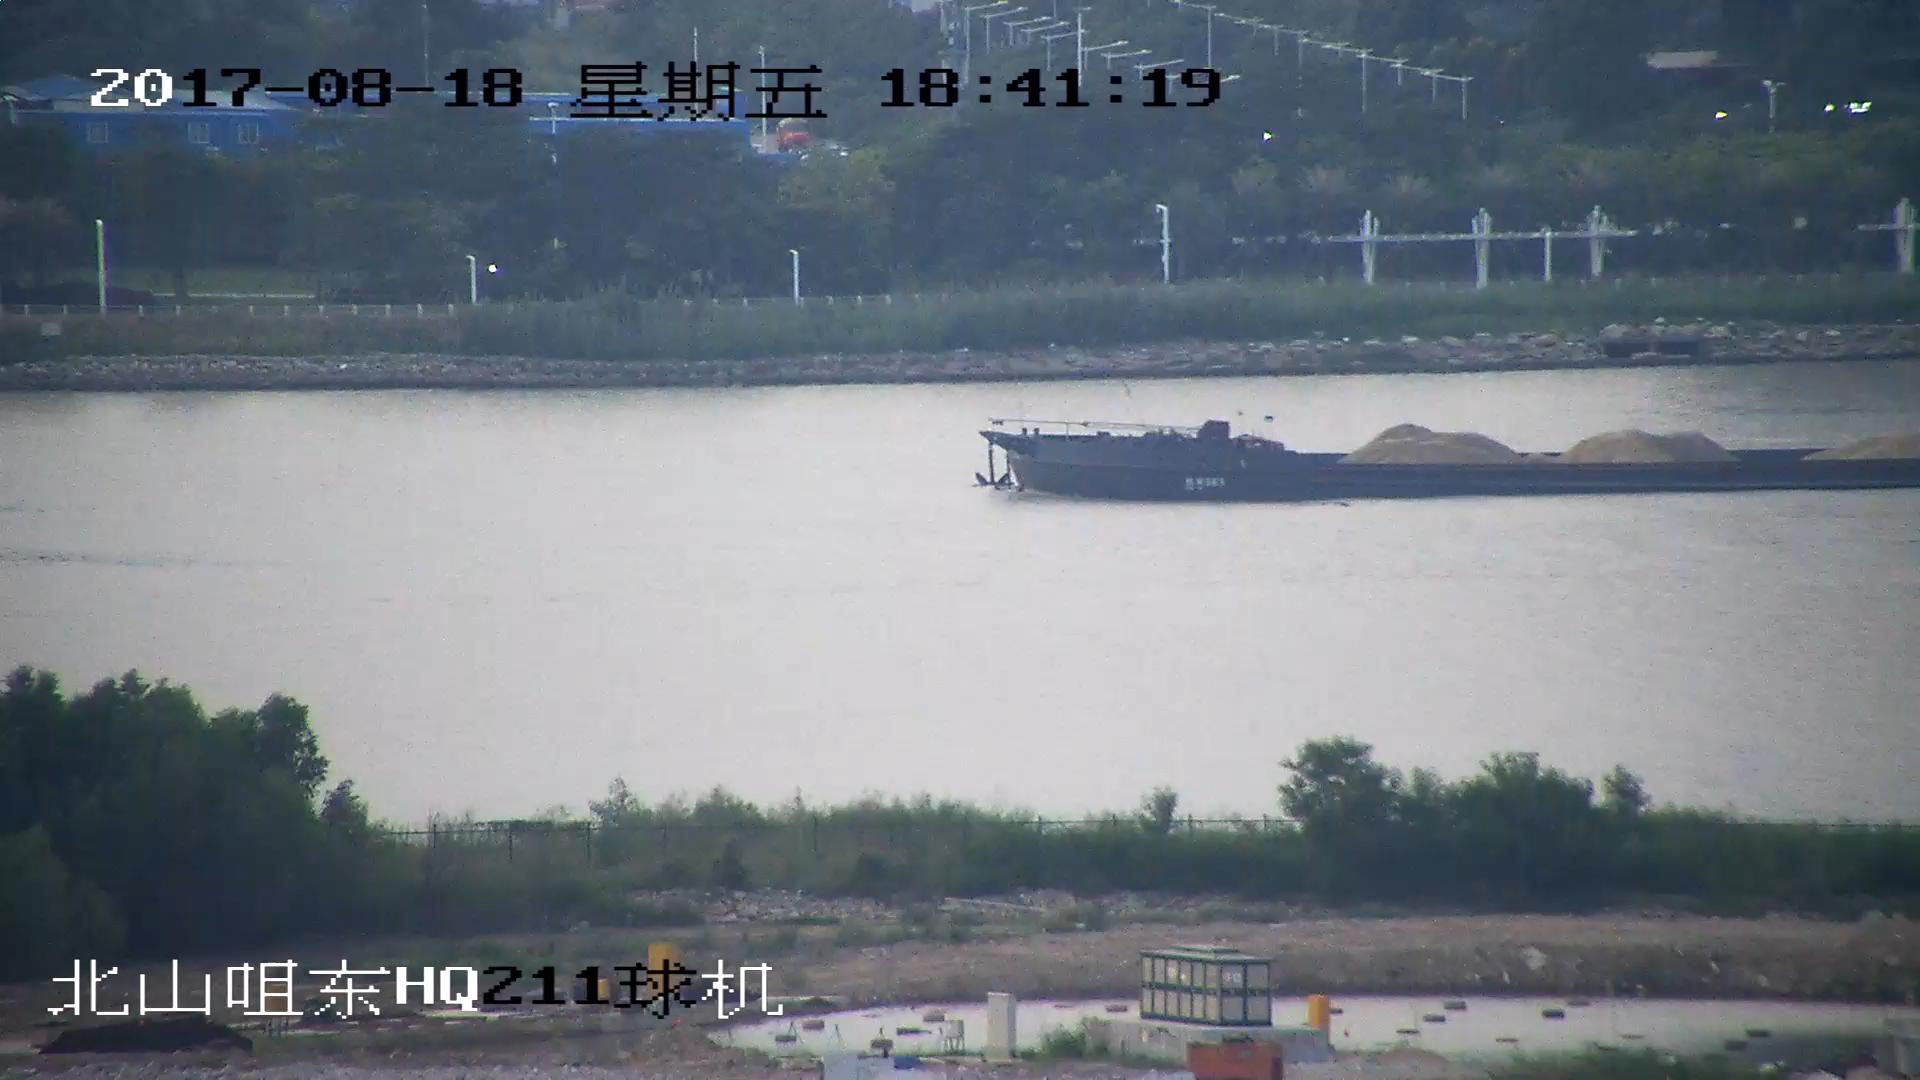Ship: (975, 413, 1920, 509)
